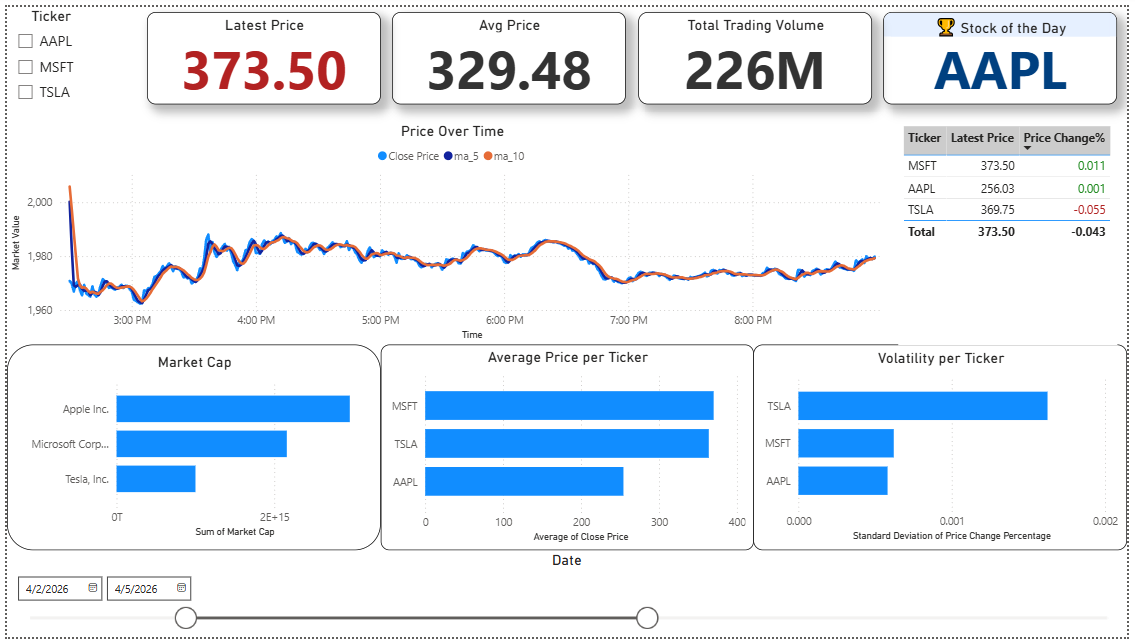

This screenshot's page, from the dashboard's own definition file:
{"tool":"powerbi","page":{"name":"Page Stock Market Analytics Dashboard [Light Mode]","canvas":[1280,720],"ordinal":0},"visuals":[{"type":"lineChart","title":"Price Over Time","fields":{"Y":["Sum(public fact_stock_prices.close_price)","Sum(public fact_stock_prices.ma_5)","Sum(public fact_stock_prices.ma_10)"],"Category":["public fact_stock_prices.datetime"]},"box":[0,131.2,1018.8,255],"z":0},{"type":"barChart","title":"Volatility per Ticker","fields":{"Category":["public fact_stock_prices.ticker"],"Y":["Sum(public fact_stock_prices.price_change_pct)"]},"box":[852.5,386.2,427.5,235],"z":1000},{"type":"barChart","title":"Average Price per Ticker","fields":{"Category":["public fact_stock_prices.ticker"],"Y":["Avg(public fact_stock_prices.close_price)"]},"box":[426.9,386.2,426.2,235],"z":2000},{"type":"barChart","title":"Market Cap","fields":{"Category":["public fact_stock_prices.company_name"],"Y":["Sum(public fact_stock_prices.market_cap)"]},"box":[0,386.2,427.5,235],"z":3000},{"type":"slicer","title":"Ticker","fields":{"Values":["public fact_stock_prices.ticker"]},"box":[0,0,101.2,131.2],"z":4000},{"type":"slicer","title":"Date","fields":{"Values":["public fact_stock_prices.datetime"]},"box":[0,621.2,1280,98.8],"z":5000},{"type":"card","title":"🏆 Stock of the Day","fields":{"Values":["Min(public dim_tickers.ticker)"]},"box":[1001.2,6.1,267.5,105.5],"z":6000,"group":"g1"},{"type":"card","title":"Avg Price","fields":{"Values":["Avg(public fact_stock_prices.close_price)"]},"box":[440.1,6.1,267.5,105.5],"z":7000,"group":"g1"},{"type":"tableEx","fields":{"Values":["public fact_stock_prices.ticker","public fact_stock_prices.Latest Price","Sum(public fact_stock_prices.price_change_pct)"]},"box":[1018.4,131.3,250.3,255.2],"z":8000},{"type":"card","title":"Total Trading Volume","fields":{"Values":["Sum(public fact_stock_prices.volume)"]},"box":[720.6,6.1,267.5,105.5],"z":9000,"group":"g1"},{"type":"card","title":"Latest Price","fields":{"Values":["public fact_stock_prices.Latest Price"]},"box":[159.5,6.1,267.5,105.5],"z":10000,"group":"g1"},{"type":"group","id":"g1","title":"Group 1","box":[159.5,6.1,1109.2,105.5],"z":10001}]}

Visuals, with their boxes in screenshot pixels (x1, y1, x2, y2), scaled from the page's 1280x720 canvas onto the 1135x643 screenshot:
"Price Over Time" lineChart: left=0, top=117, right=903, bottom=345
"Volatility per Ticker" barChart: left=756, top=345, right=1134, bottom=555
"Average Price per Ticker" barChart: left=379, top=345, right=756, bottom=555
"Market Cap" barChart: left=0, top=345, right=379, bottom=555
"Ticker" slicer: left=0, top=0, right=90, bottom=117
"Date" slicer: left=0, top=555, right=1134, bottom=642
"🏆 Stock of the Day" card: left=888, top=5, right=1125, bottom=100
"Avg Price" card: left=390, top=5, right=627, bottom=100
tableEx - public fact_stock_prices.ticker x public fact_stock_prices.Latest Price: left=903, top=117, right=1125, bottom=345
"Total Trading Volume" card: left=639, top=5, right=876, bottom=100
"Latest Price" card: left=141, top=5, right=379, bottom=100
"Group 1" group: left=141, top=5, right=1125, bottom=100
